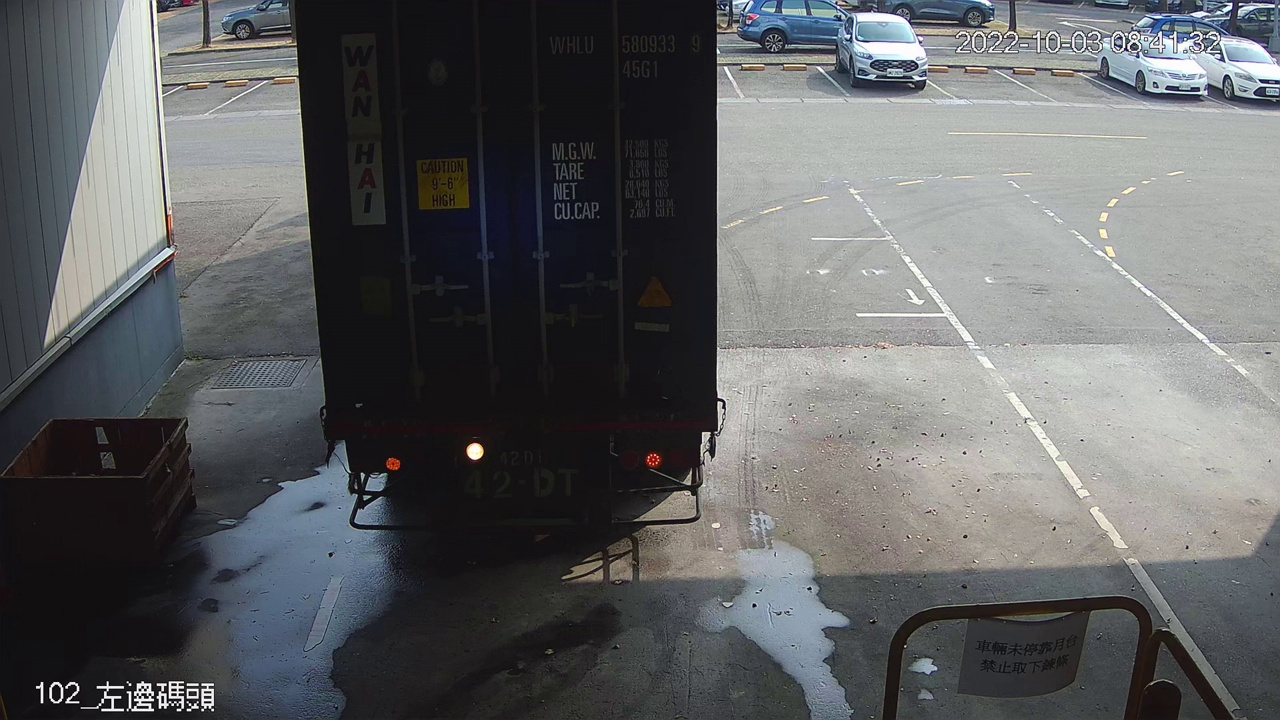container: (544, 28, 707, 86)
